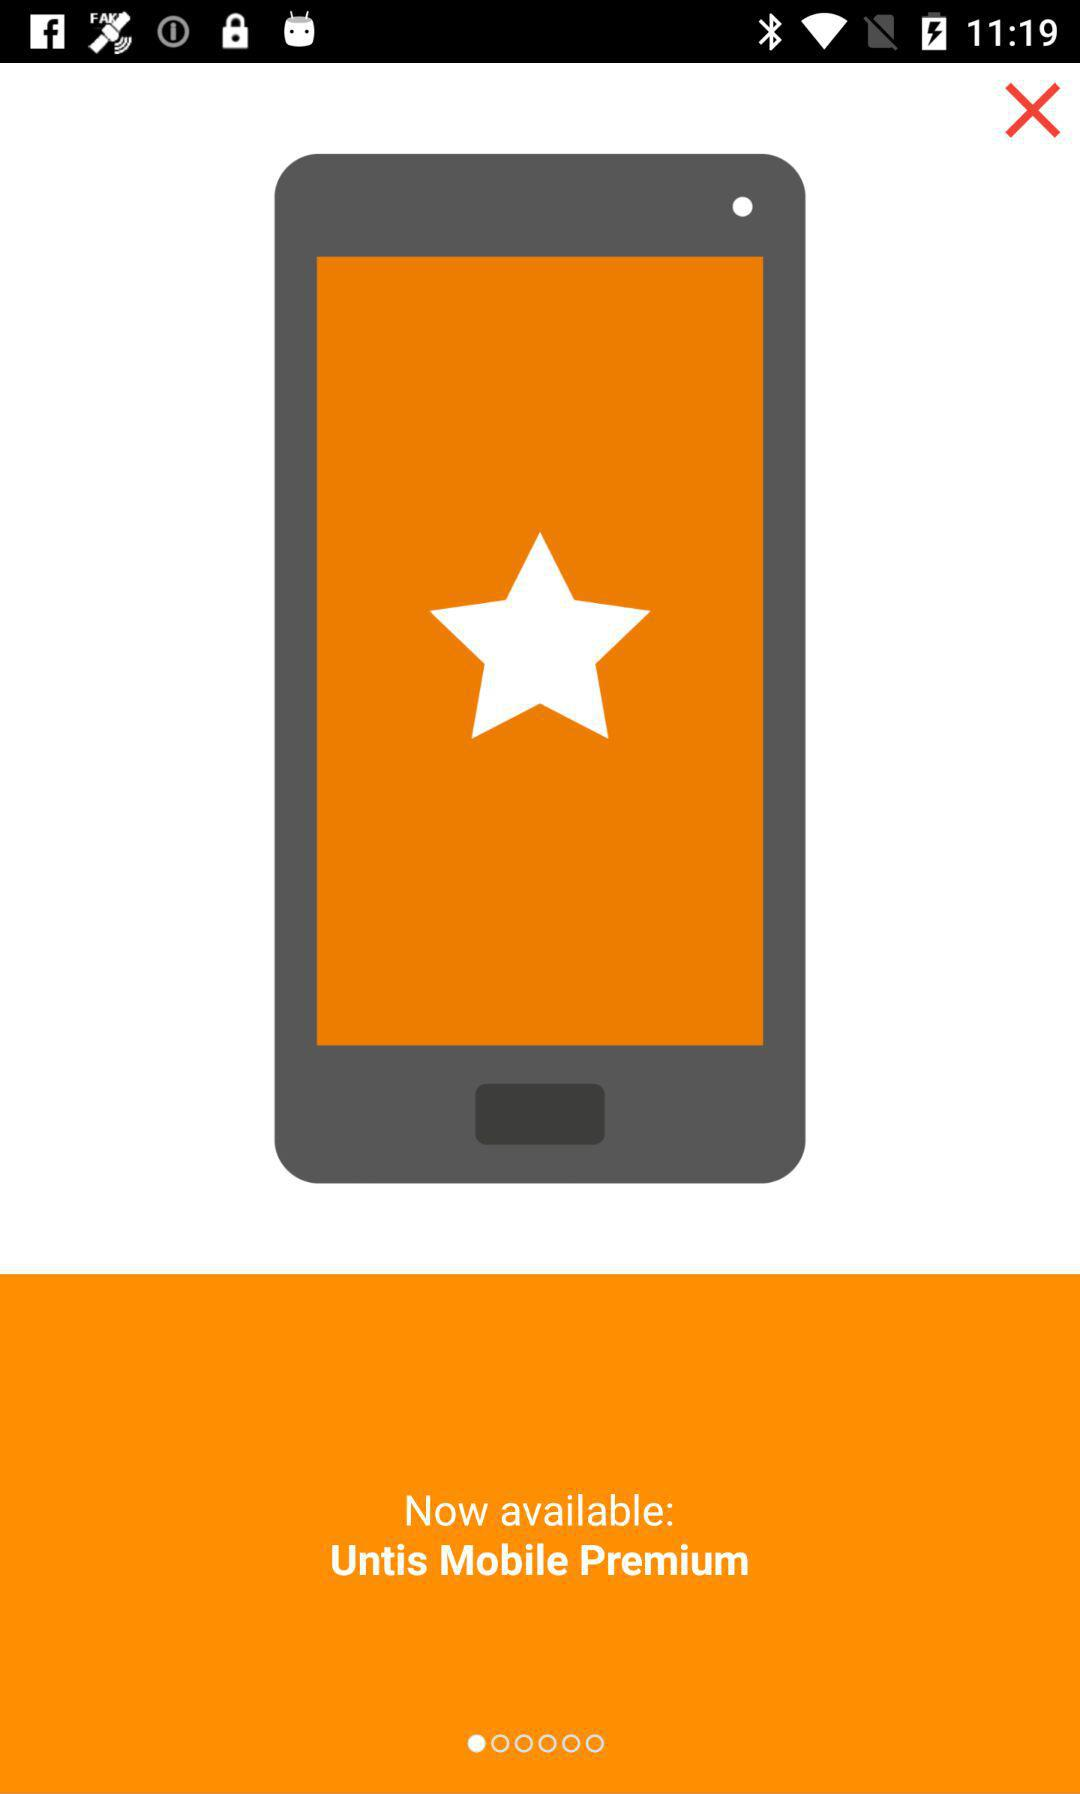Icon: (1002, 82, 1062, 140)
Image: (274, 152, 807, 1185)
PageIndicator: (466, 1732, 606, 1756)
Text: (331, 1493, 749, 1577)
UpperTaskBar: (1, 1, 1080, 64)
